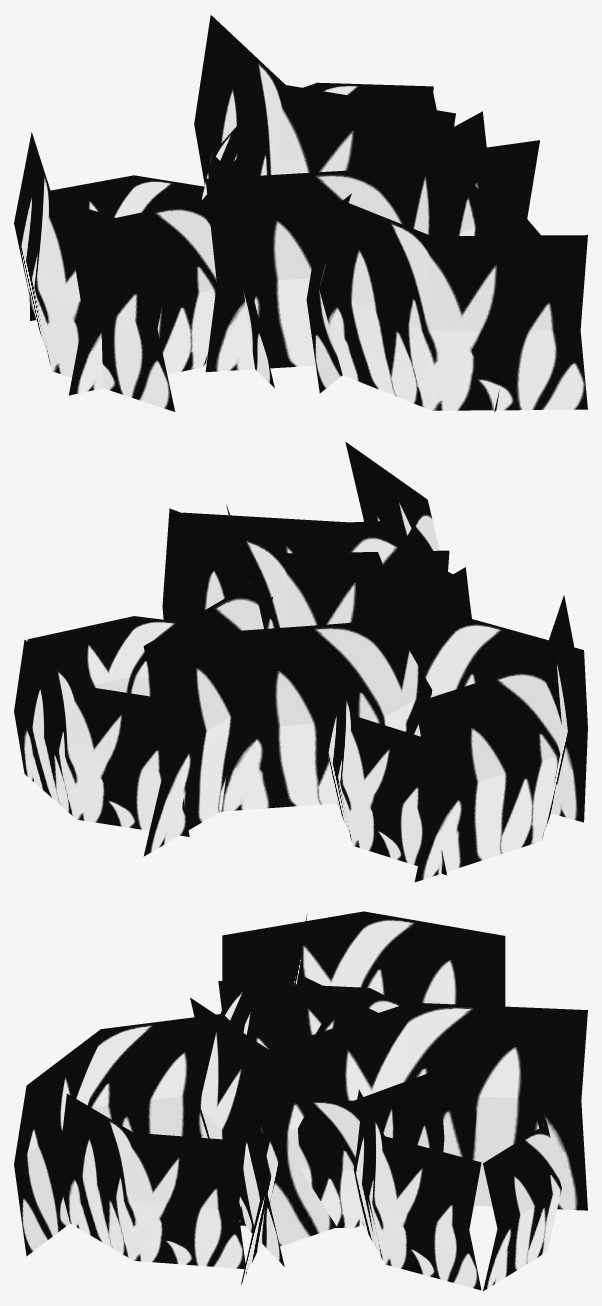
Rendered from Foliage.fbx.
3 renders of one model, top to bottom at view 1: azimuth 30°, elevation 25°; view 2: azimuth 150°, elevation 25°; view 3: azimuth 270°, elevation 25°, orthographic. The views are drawn at different scales.
Parts seen in each view (by area): view 1: foliage_try1.001; view 2: foliage_try1.001; view 3: foliage_try1.001.
Boxes of the visible parts, x1,y1,x2,y2 form: foliage_try1.001: (14, 15, 587, 411); foliage_try1.001: (14, 442, 587, 882); foliage_try1.001: (14, 911, 587, 1291).
Size of the model in its own units: 185 by 78.85 by 202.
